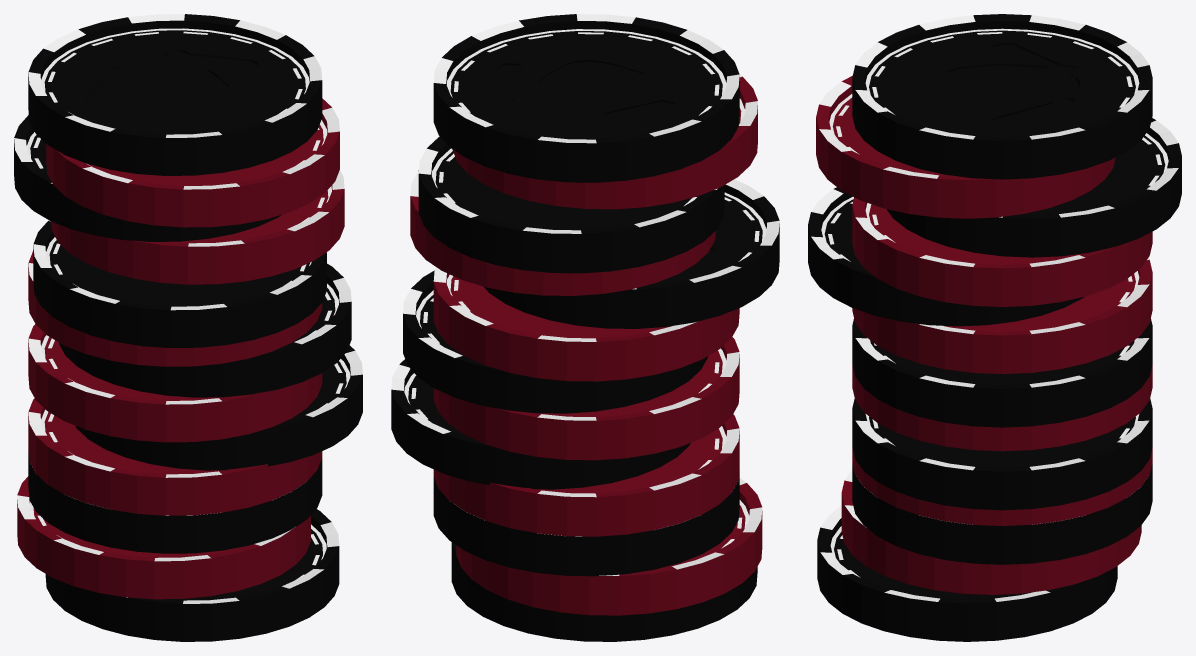
Rendered from poker chip 12 stack (sticking out).fbx.
3 views of the same model, side by side, from view 1: azimuth 30°, elevation 25°; view 2: azimuth 150°, elevation 25°; view 3: azimuth 270°, elevation 25° (orthographic). The views are drawn at different scales.
Parts seen in each view (by area): view 1: Cylinder.004; view 2: Cylinder.004; view 3: Cylinder.004.
Boxes of the visible parts, left/top/right/bottom form: Cylinder.004: left=14, top=14, right=362, bottom=641; Cylinder.004: left=391, top=14, right=779, bottom=641; Cylinder.004: left=808, top=14, right=1181, bottom=641.
Size of the model in its own units: 245 by 368 by 249.
